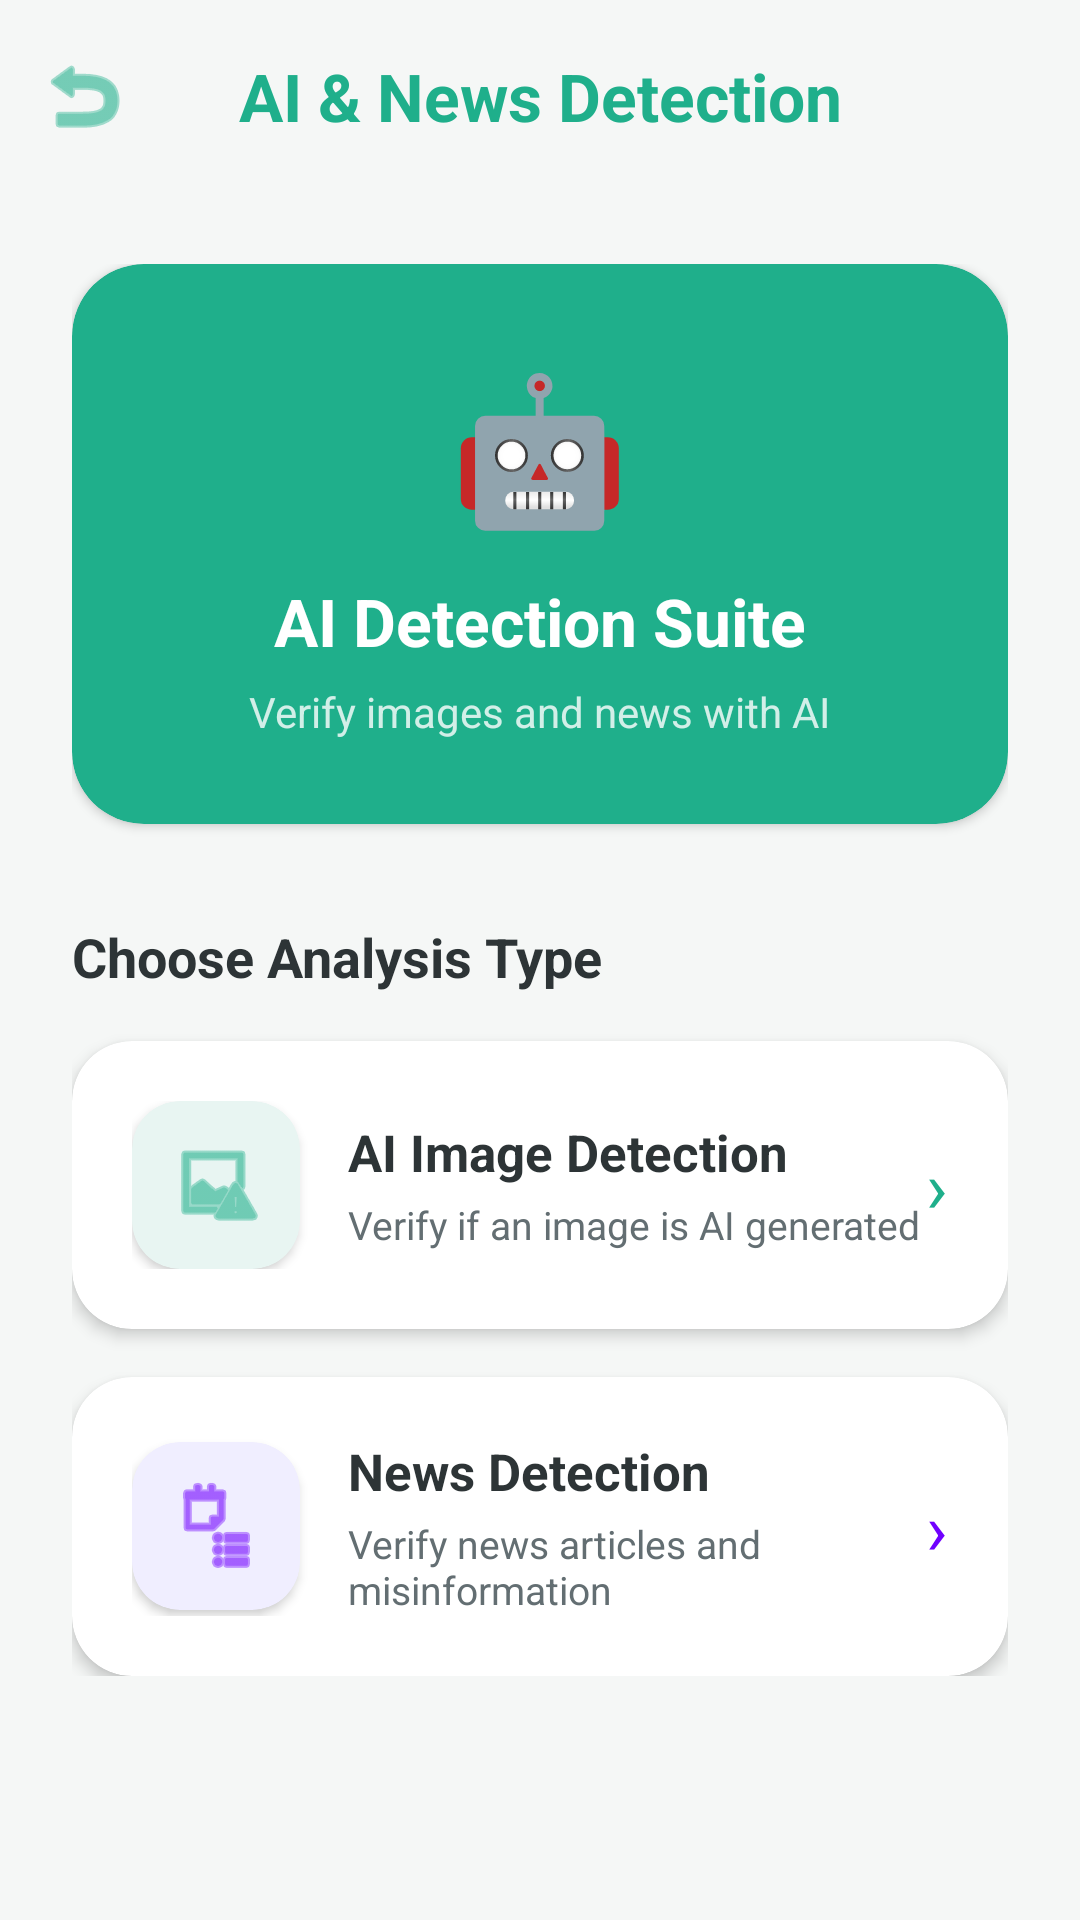

Icons on this 1080px x 1920px Android screen, each with the point to tap as [x,y]:
agenda: [216,1525]
